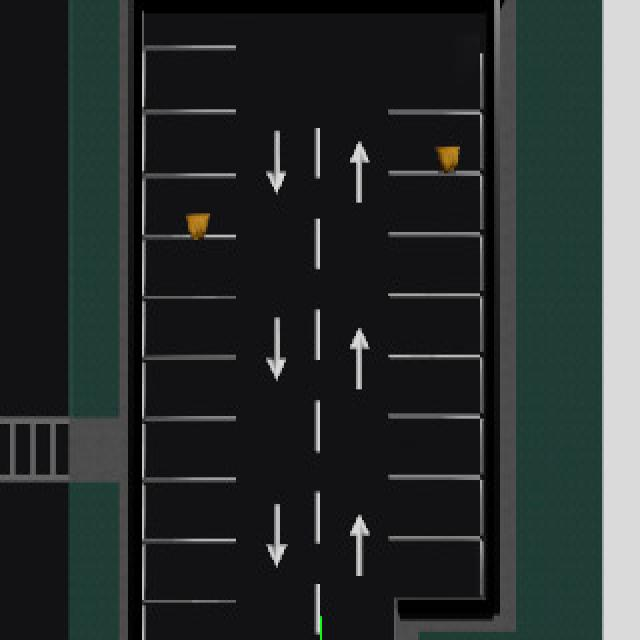Garbage: (434, 141, 464, 171), (185, 212, 212, 244)
